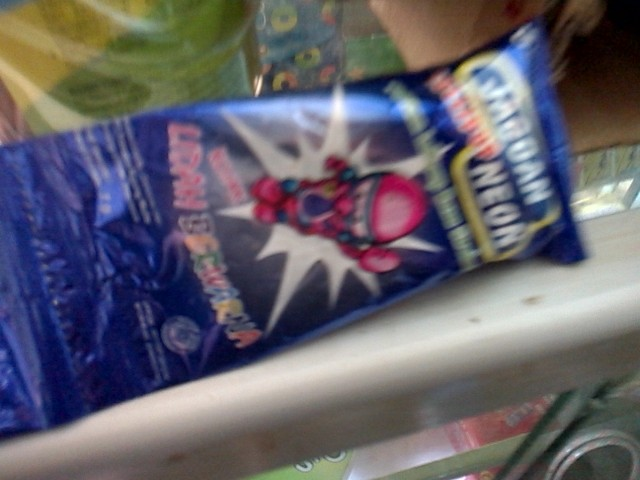jagoan neon: (12, 19, 584, 409)
